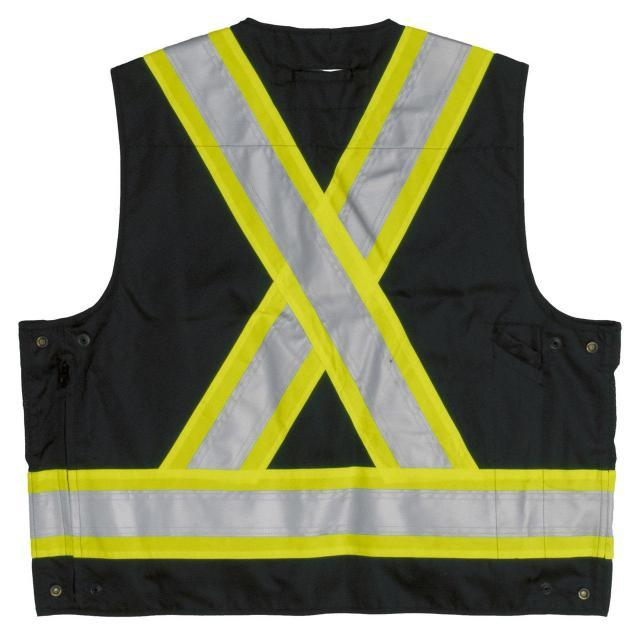reflective_jacket: (17, 2, 636, 639)
